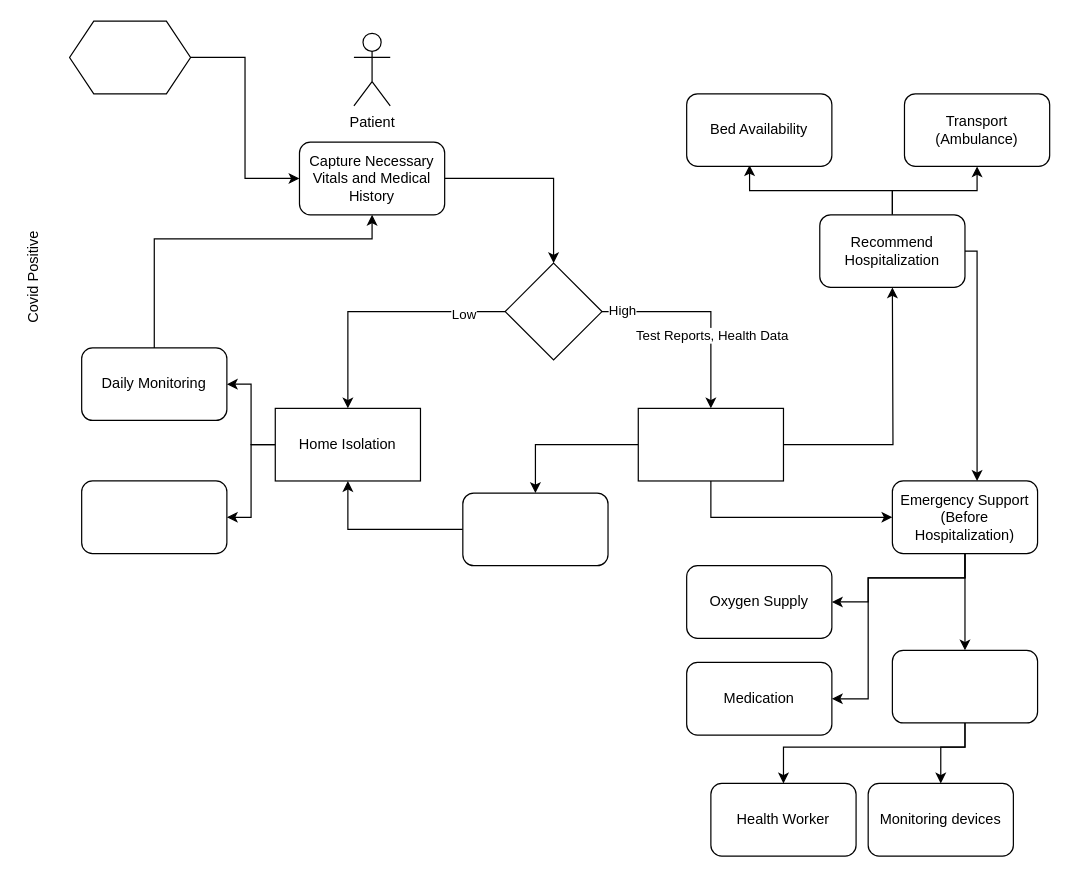
Image size: 1071x877. Some labels were removed from this diagram. Here are the shapes that lost their labels. From the top down, the centre of each, then its label:
At point (129, 57): "Covid Positive Patient".
At point (553, 311): "Data based Criticality".
At point (710, 444): "Doctor Consultation".
At point (153, 517): "Home Isolation Resources and Plan".
At point (535, 529): "Medicines / Isolation Care".
At point (964, 686): "Emergency Home Care".
